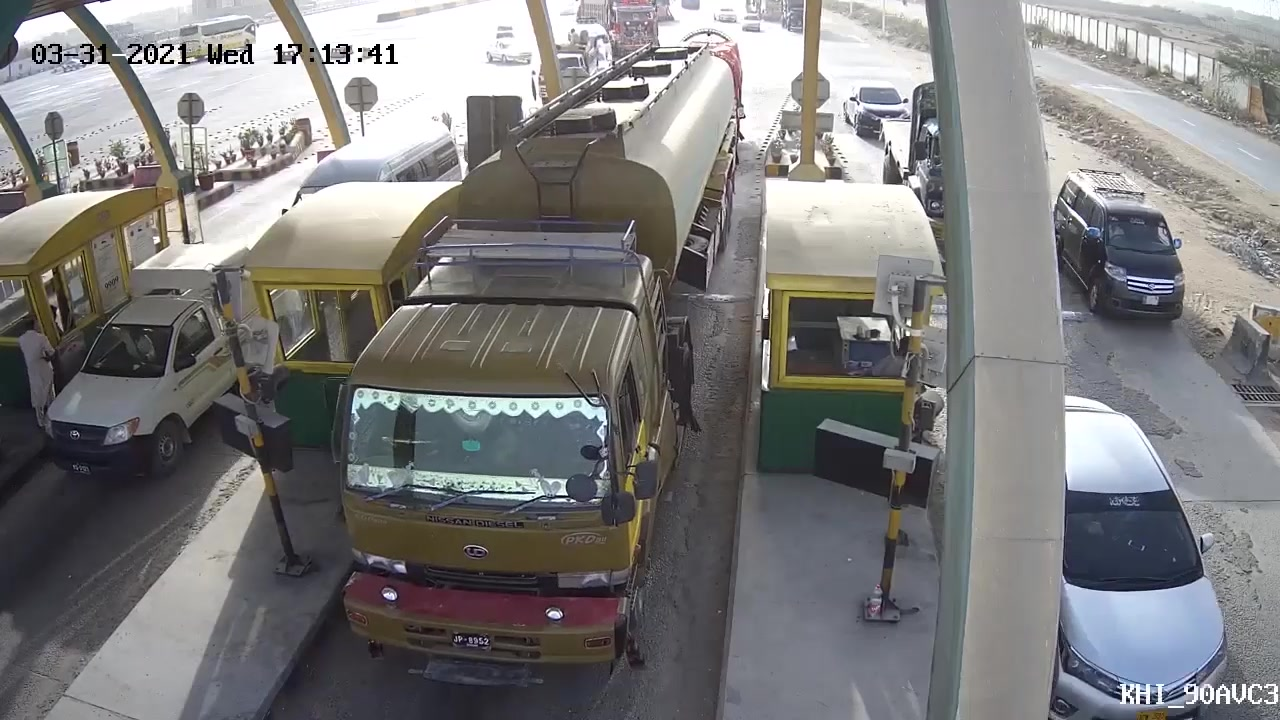F6: (322, 126, 707, 696)
